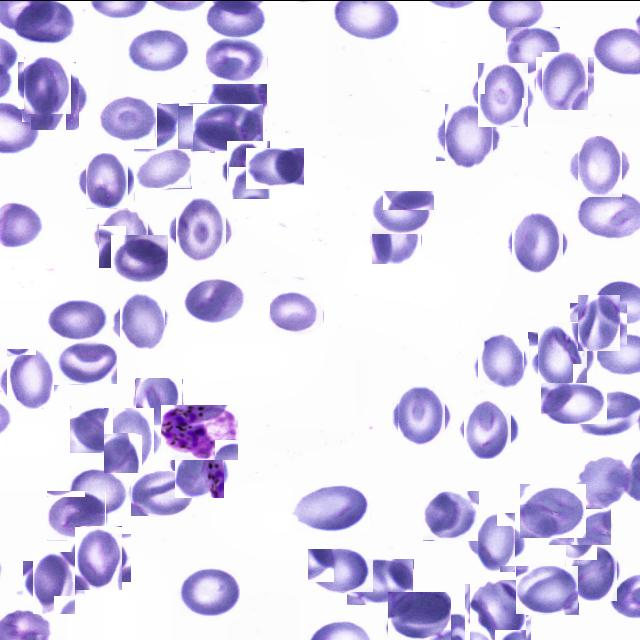red blood cell: (292, 482, 370, 531), (532, 326, 592, 386), (468, 581, 529, 640), (520, 483, 586, 537), (172, 200, 230, 258), (440, 106, 498, 164), (474, 64, 532, 122), (100, 411, 158, 469), (182, 274, 248, 324), (193, 103, 263, 150), (509, 213, 566, 270), (179, 566, 241, 618), (70, 405, 136, 453), (70, 529, 126, 585), (27, 68, 82, 125), (516, 565, 579, 614), (388, 591, 451, 640), (347, 558, 414, 604), (394, 388, 450, 442), (128, 26, 190, 74), (96, 210, 151, 264), (564, 544, 619, 598), (172, 440, 227, 494), (3, 352, 58, 406), (579, 451, 632, 507), (67, 466, 126, 516), (47, 490, 106, 540), (461, 401, 515, 455), (130, 469, 192, 516), (308, 548, 374, 592), (157, 102, 215, 152), (207, 83, 267, 131), (206, 37, 268, 83), (423, 490, 480, 540), (111, 234, 168, 284), (100, 92, 157, 142), (54, 340, 118, 384), (538, 54, 592, 106), (549, 501, 612, 545), (573, 140, 626, 192), (28, 555, 80, 608), (21, 58, 74, 110), (371, 190, 435, 233), (541, 382, 607, 423), (116, 294, 168, 346), (223, 143, 275, 194), (45, 299, 107, 341), (506, 26, 560, 74), (82, 154, 132, 204), (372, 214, 422, 264), (476, 336, 526, 386), (270, 290, 324, 336), (574, 298, 623, 348), (472, 516, 521, 566), (246, 147, 304, 188), (134, 148, 192, 188), (136, 378, 182, 424)
schizont: (160, 404, 238, 460)
